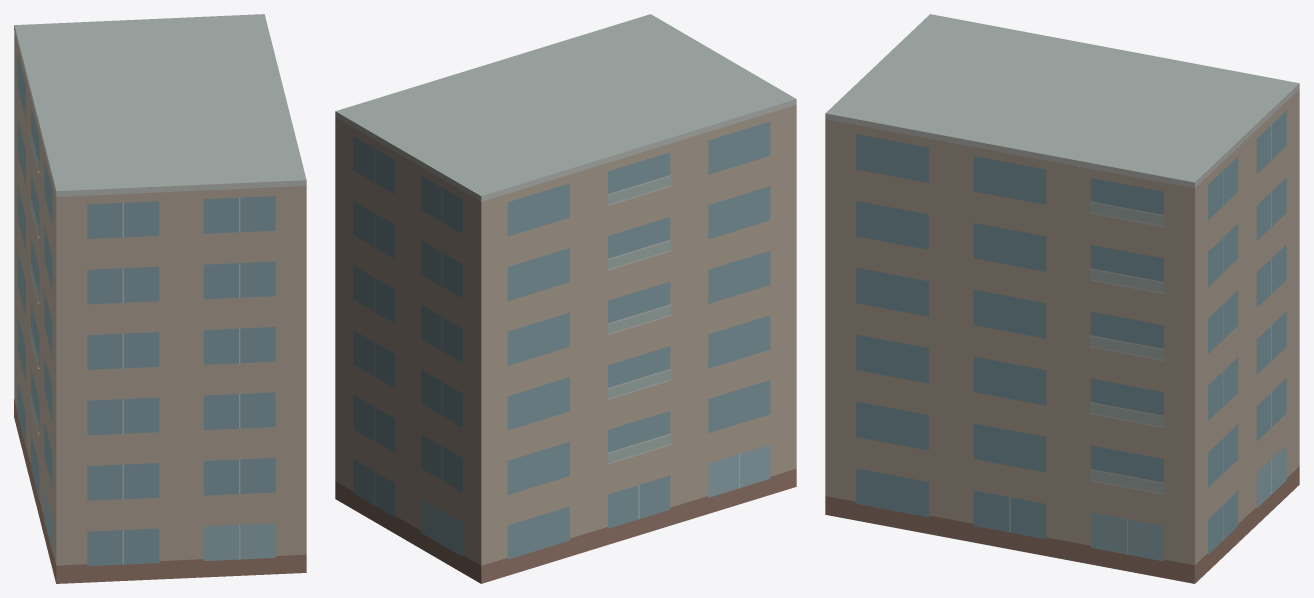
Rendered from survey-upis-32869945.glb.
The picture shows the model from 3 angles, left to right: view 1: azimuth 30°, elevation 25°; view 2: azimuth 150°, elevation 25°; view 3: azimuth 270°, elevation 25°; orthographic projection. The views are drawn at different scales.
Parts seen in each view (by area): view 1: survey-upis-32869945.tmp; view 2: survey-upis-32869945.tmp; view 3: survey-upis-32869945.tmp.
Part boxes in pixels (x1=…): survey-upis-32869945.tmp: x1=14, y1=14, x2=306, y2=583; survey-upis-32869945.tmp: x1=335, y1=14, x2=796, y2=583; survey-upis-32869945.tmp: x1=825, y1=14, x2=1299, y2=583.
Bounding box in the file's own units: 14.96 × 16.6 × 17.79.
